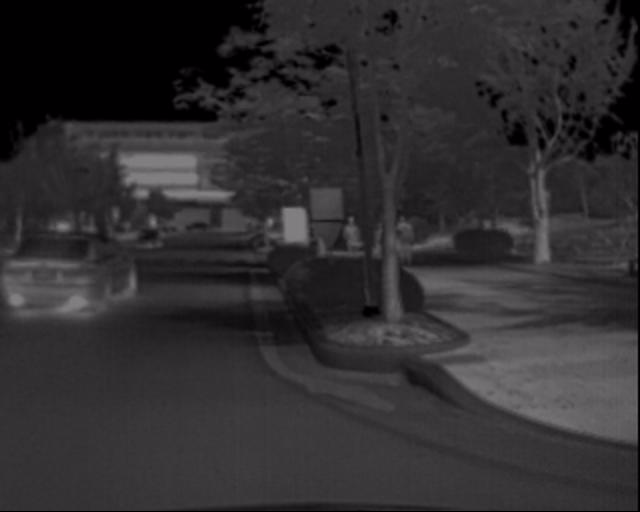person: (343, 212, 365, 261), (398, 214, 418, 266)
